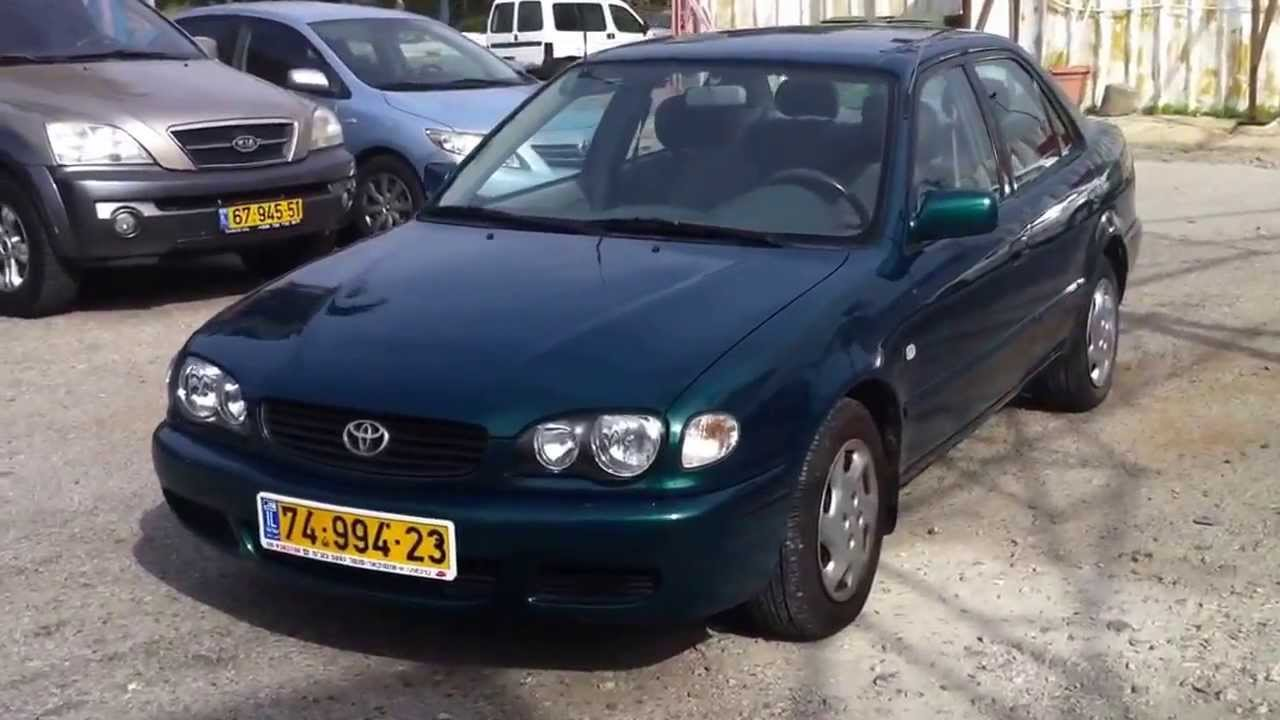licence: (253, 484, 459, 589)
